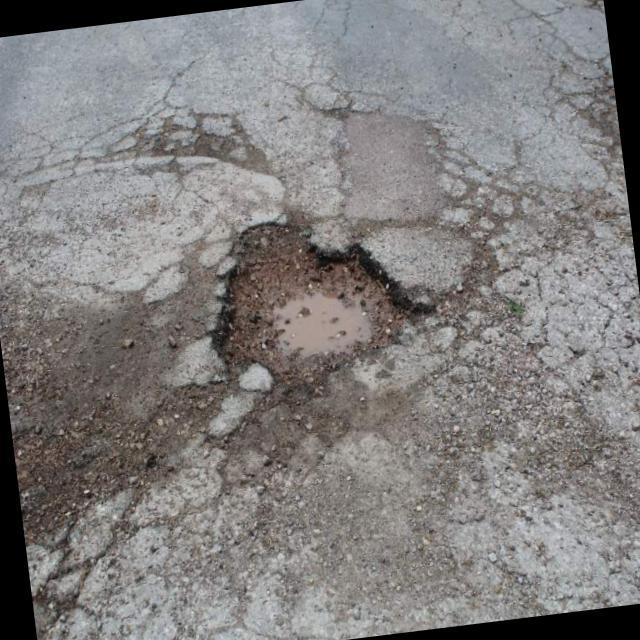Pothole: (196, 194, 456, 414), (414, 100, 610, 301), (0, 117, 285, 233)
